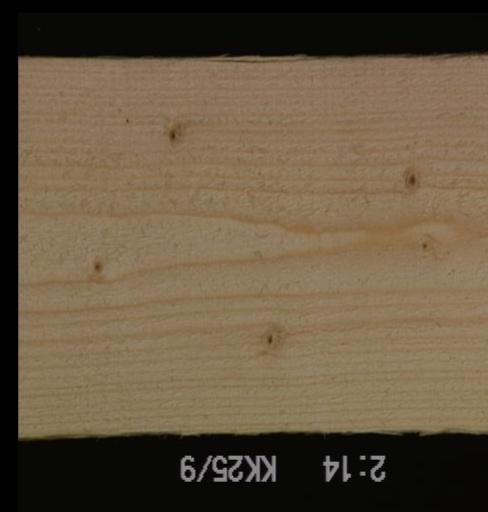small_knot: (163, 118, 190, 154), (260, 322, 284, 352), (399, 166, 423, 196), (413, 235, 435, 258), (88, 254, 107, 278)
